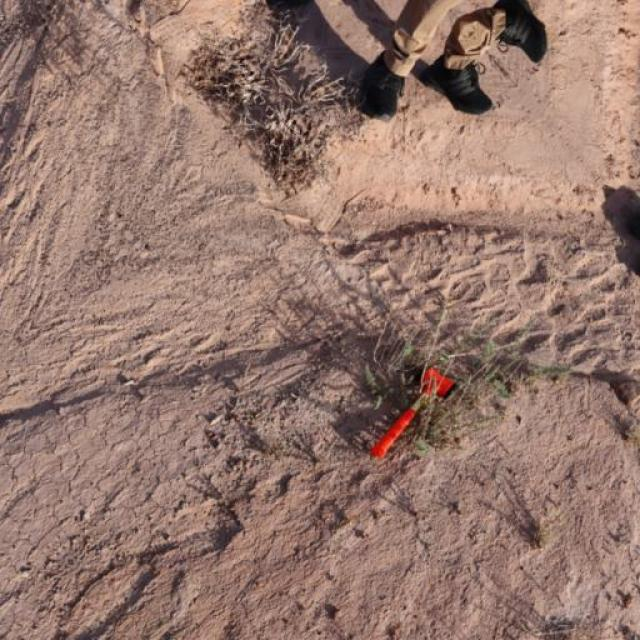mallet: (369, 365, 455, 460)
